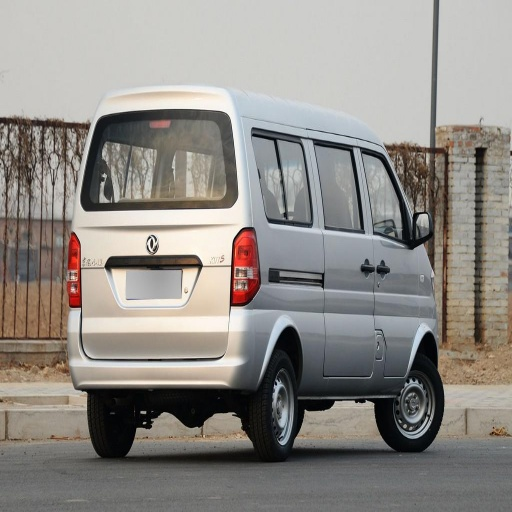back_bumper: (67, 306, 271, 389)
back_right_door: (249, 126, 371, 304)
tailgate: (71, 207, 230, 313)
trunk: (248, 292, 427, 392), (87, 266, 231, 354)
